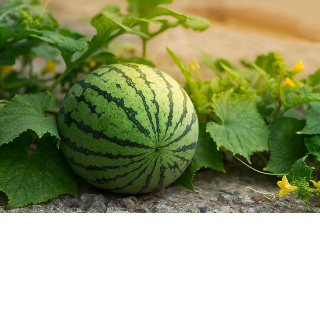dua_hau: (55, 63, 200, 198)
